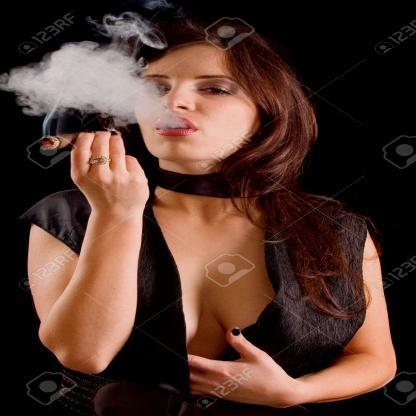cigarette: (36, 132, 86, 152)
person: (32, 30, 390, 416)
smoke: (5, 43, 165, 123), (100, 13, 160, 45)
